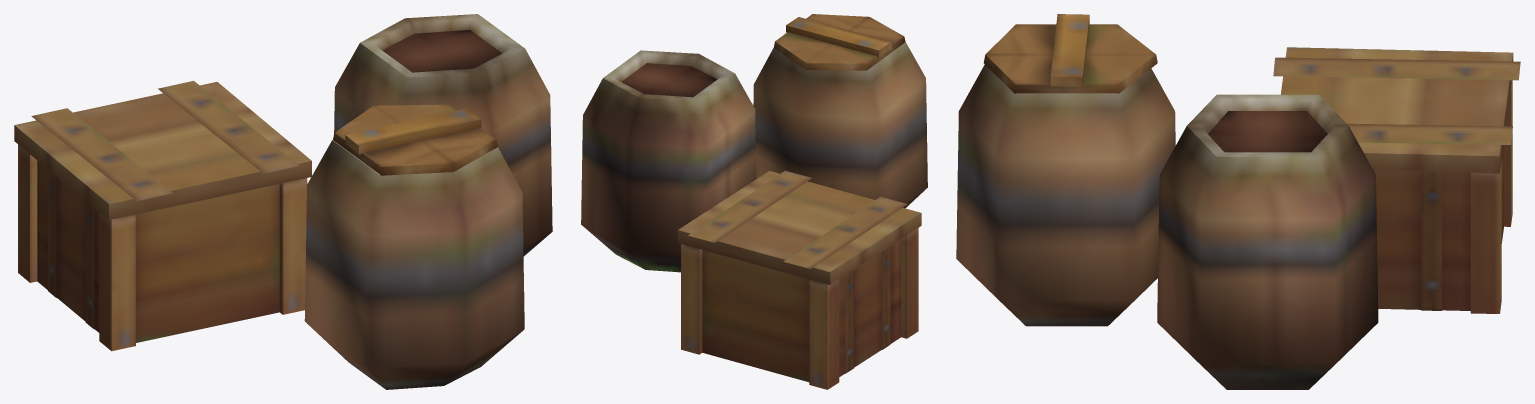
Rendered from area_11_15.fbx.
3 views of the same model, side by side, from view 1: azimuth 30°, elevation 25°; view 2: azimuth 150°, elevation 25°; view 3: azimuth 270°, elevation 25° (orthographic). The views are drawn at different scales.
Parts seen in each view (by area): view 1: area_11_15; view 2: area_11_15; view 3: area_11_15.
Part boxes in pixels (bbox=[...]): area_11_15: bbox=[14, 14, 552, 389]; area_11_15: bbox=[581, 14, 927, 389]; area_11_15: bbox=[956, 14, 1520, 389].
Size of the model in its own units: 2 by 1.18 by 2.25.
